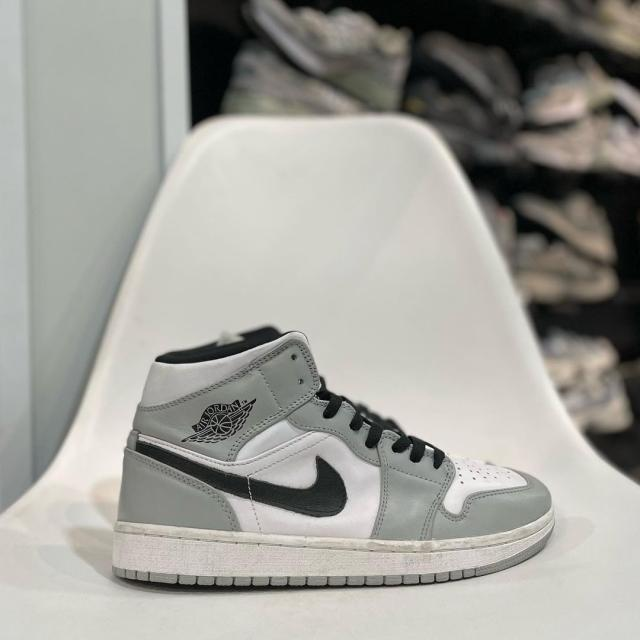nike fake jordan 1: (107, 326, 564, 591)
